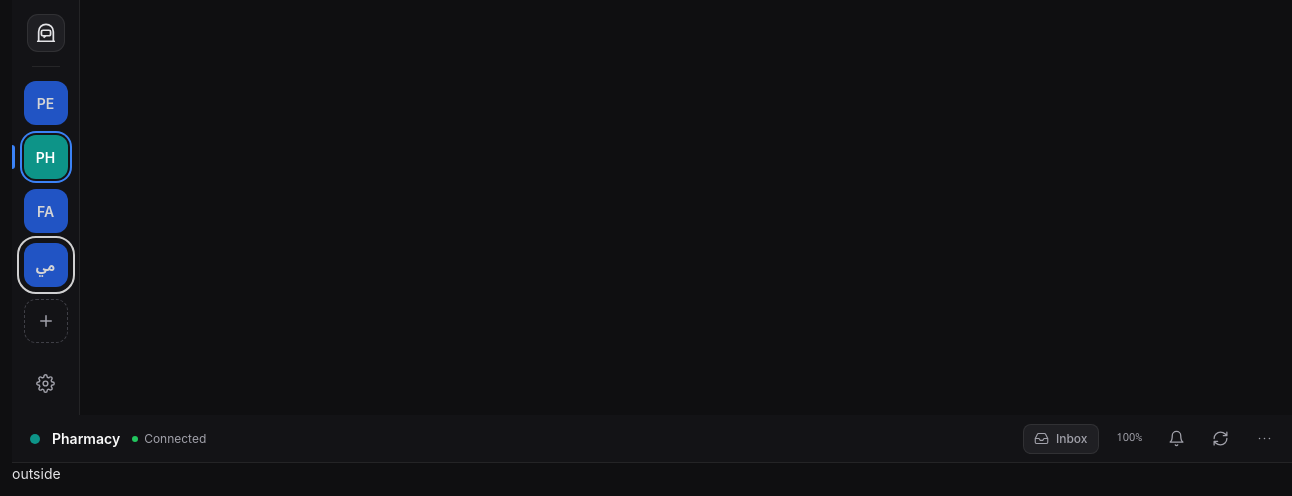
Scenario: AccountMenu › the account name in the header follows its own direction (Arabic)
The image size is (1292, 496).
Right-click the button with aria-label "محمد" at [46, 265], box x1=24 y1=243 x2=68 y2=287
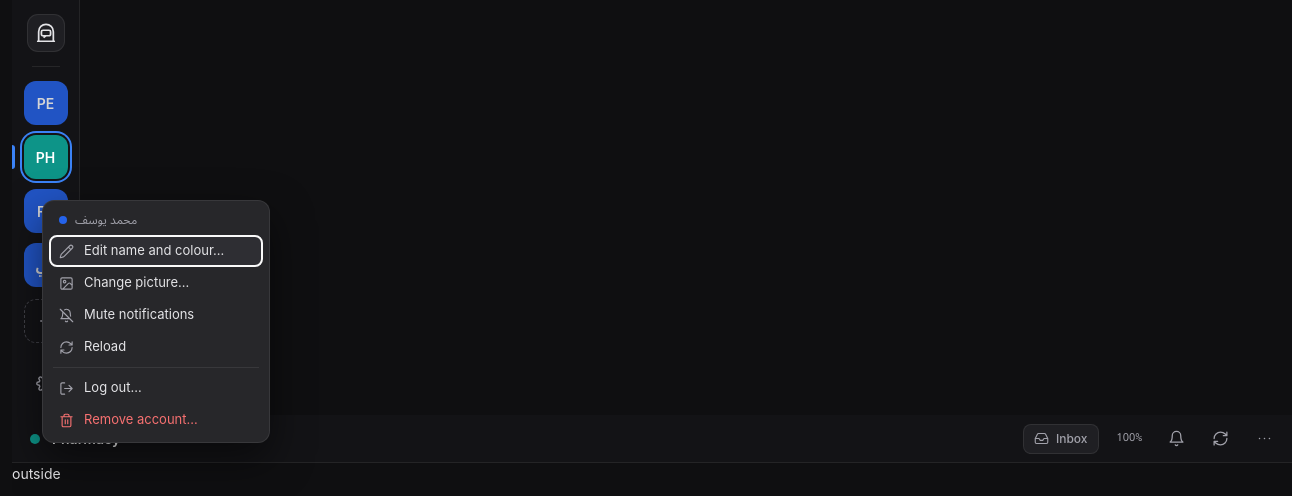
Check: the text with class "bidi-plain" reads "محمد يوسف", box x1=75 y1=212 x2=137 y2=227
